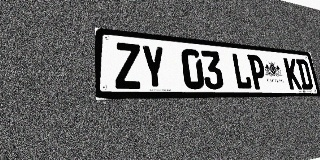0: (180, 48, 205, 89)
3: (201, 50, 224, 89)
D: (296, 59, 314, 90)
K: (283, 58, 302, 90)
L: (231, 53, 252, 89)
P: (247, 54, 268, 89)
Y: (140, 44, 167, 89)
Z: (114, 42, 142, 89)
